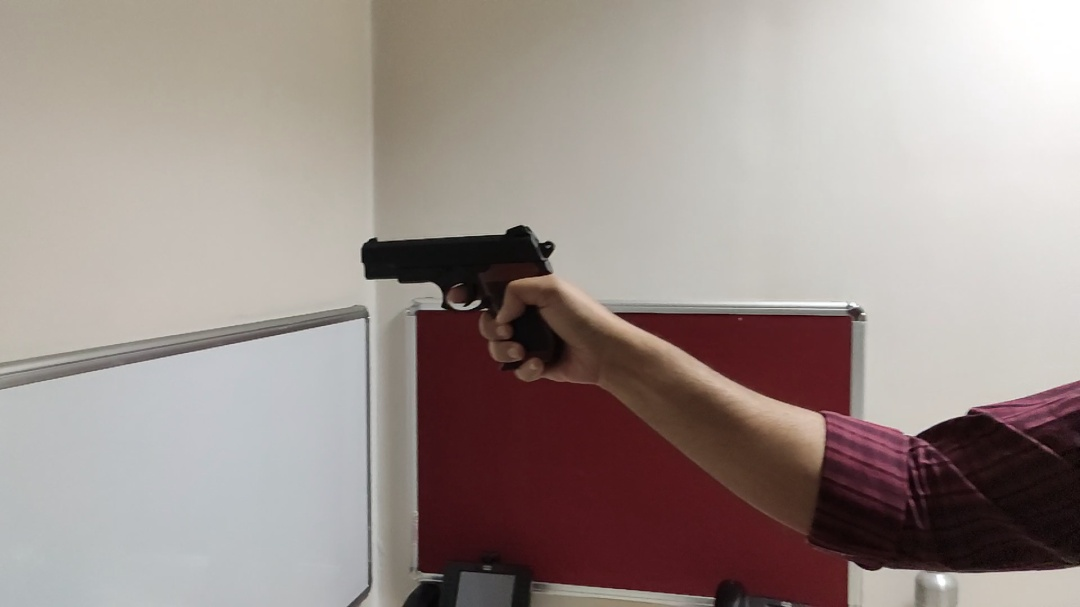gun: (359, 225, 574, 371)
